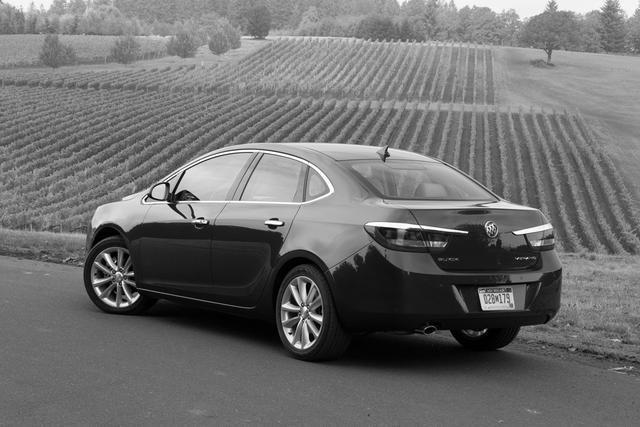car: (80, 142, 567, 366)
